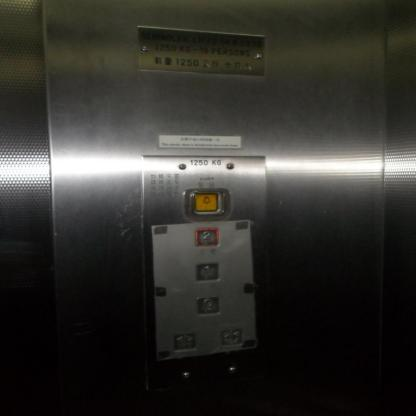1: (193, 261, 220, 281)
2: (195, 228, 219, 246)
G: (193, 296, 221, 315)
alarm: (191, 191, 223, 214)
close: (218, 327, 242, 345)
open: (172, 331, 199, 350)
